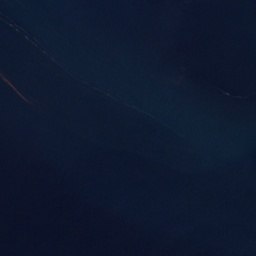Marine Debris: (218, 88, 232, 98)
